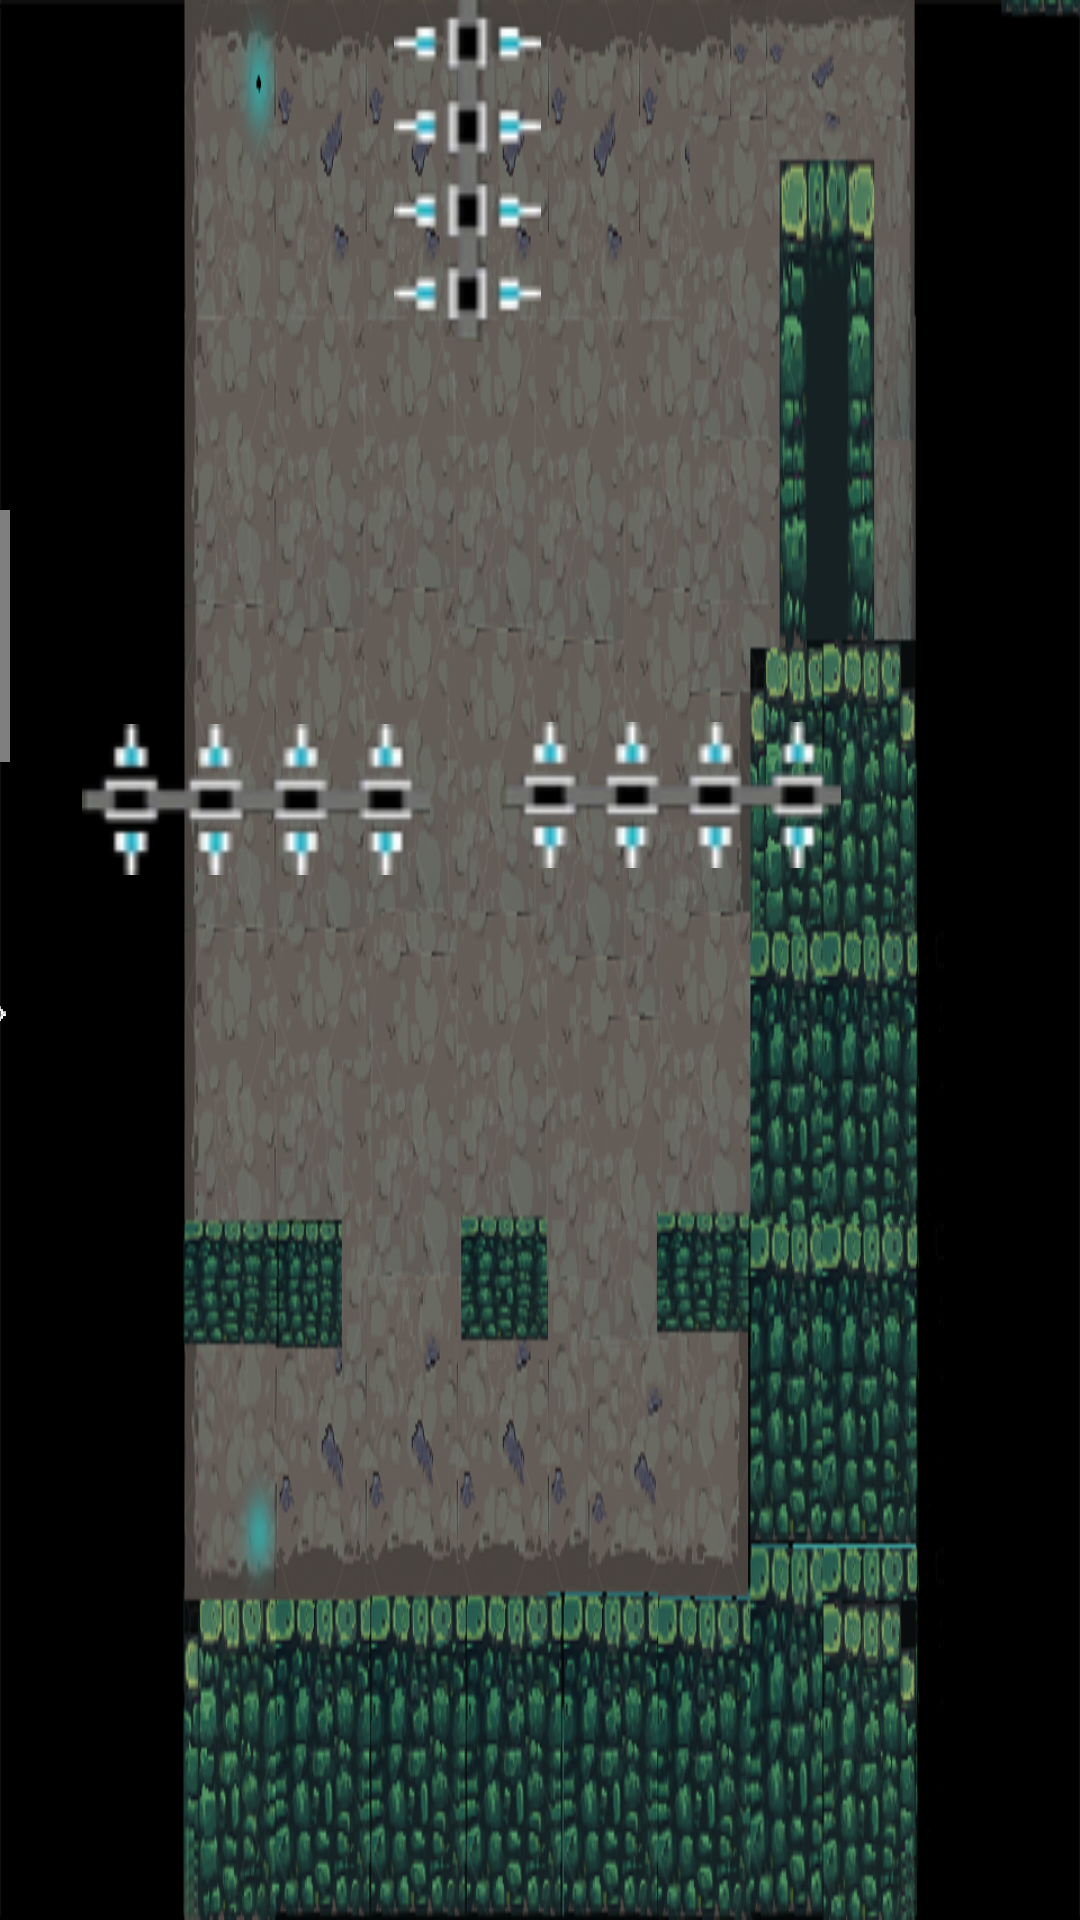

Named icons in this screenshot (1080 x 1920) and their centers, point (x, y):
obs: point (468, 168), point (256, 799), point (674, 795)
